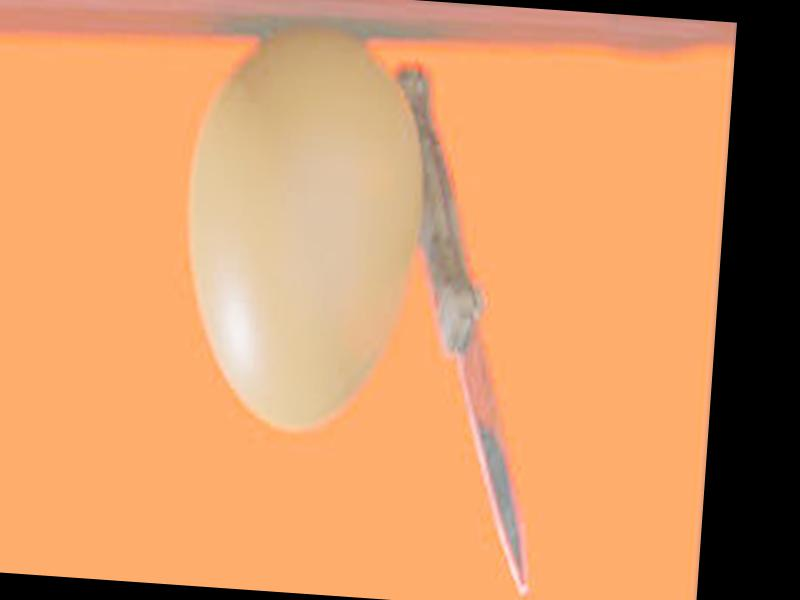Eggs: (177, 27, 431, 432)
